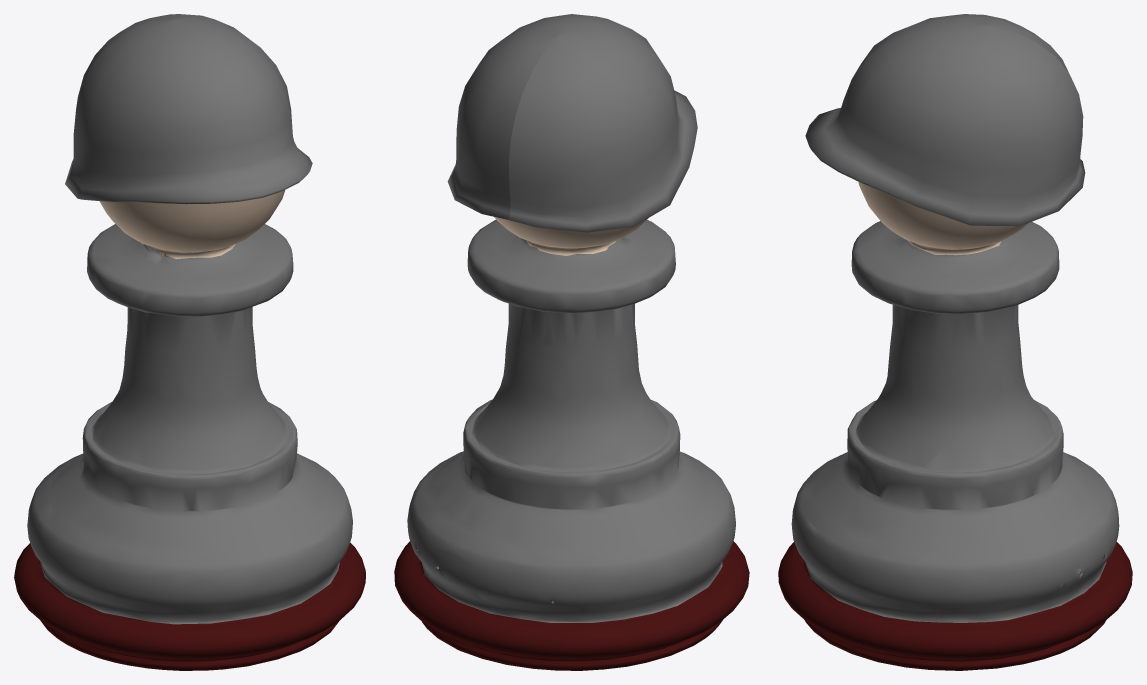
Rendered from Peao Preto.fbx.
The picture shows the model from 3 angles, left to right: view 1: azimuth 30°, elevation 25°; view 2: azimuth 150°, elevation 25°; view 3: azimuth 270°, elevation 25°; orthographic projection.
Visible parts, largest first — view 1: revolvedSurface17, helmet001; view 2: revolvedSurface17, helmet001; view 3: revolvedSurface17, helmet001.
Part boxes in pixels (box(x1,y1,x2,y2)): revolvedSurface17: box(14, 190, 365, 670); helmet001: box(65, 14, 312, 204); revolvedSurface17: box(394, 217, 749, 670); helmet001: box(447, 14, 697, 232); revolvedSurface17: box(778, 181, 1132, 670); helmet001: box(805, 14, 1085, 226).
Bounding box in the file's own units: 99.8 × 181 × 99.81.
